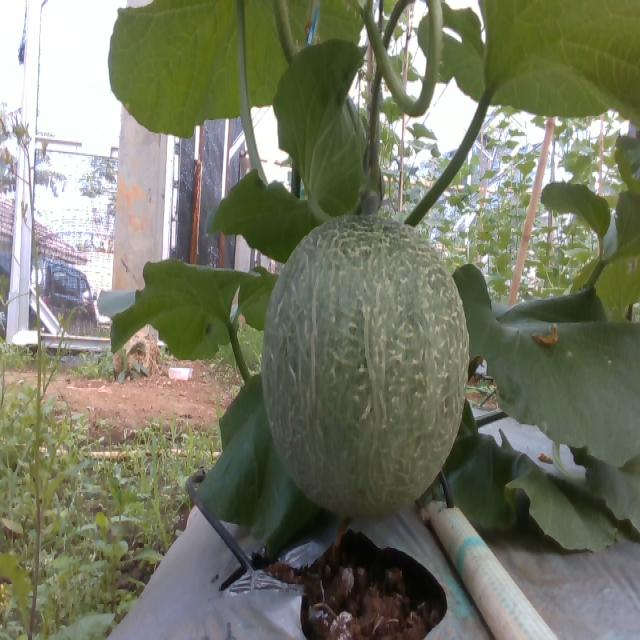melon: (264, 216, 470, 517)
